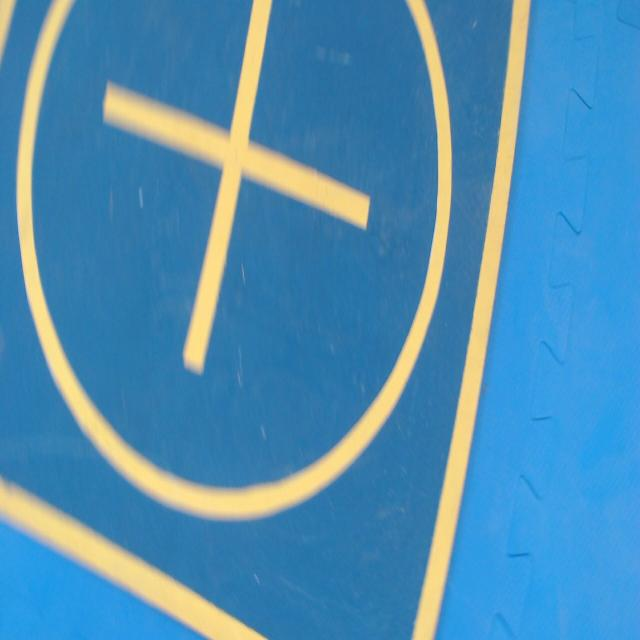base_pouso: (0, 0, 531, 639)
